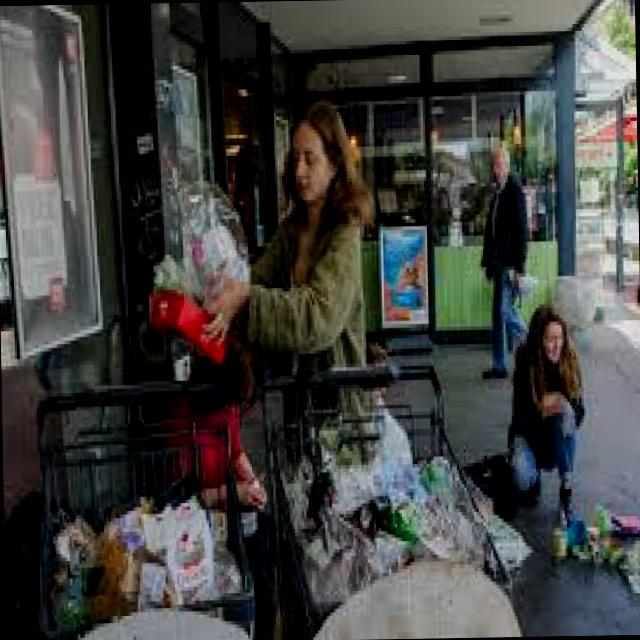garbage: (33, 451, 255, 640), (272, 414, 522, 581)
